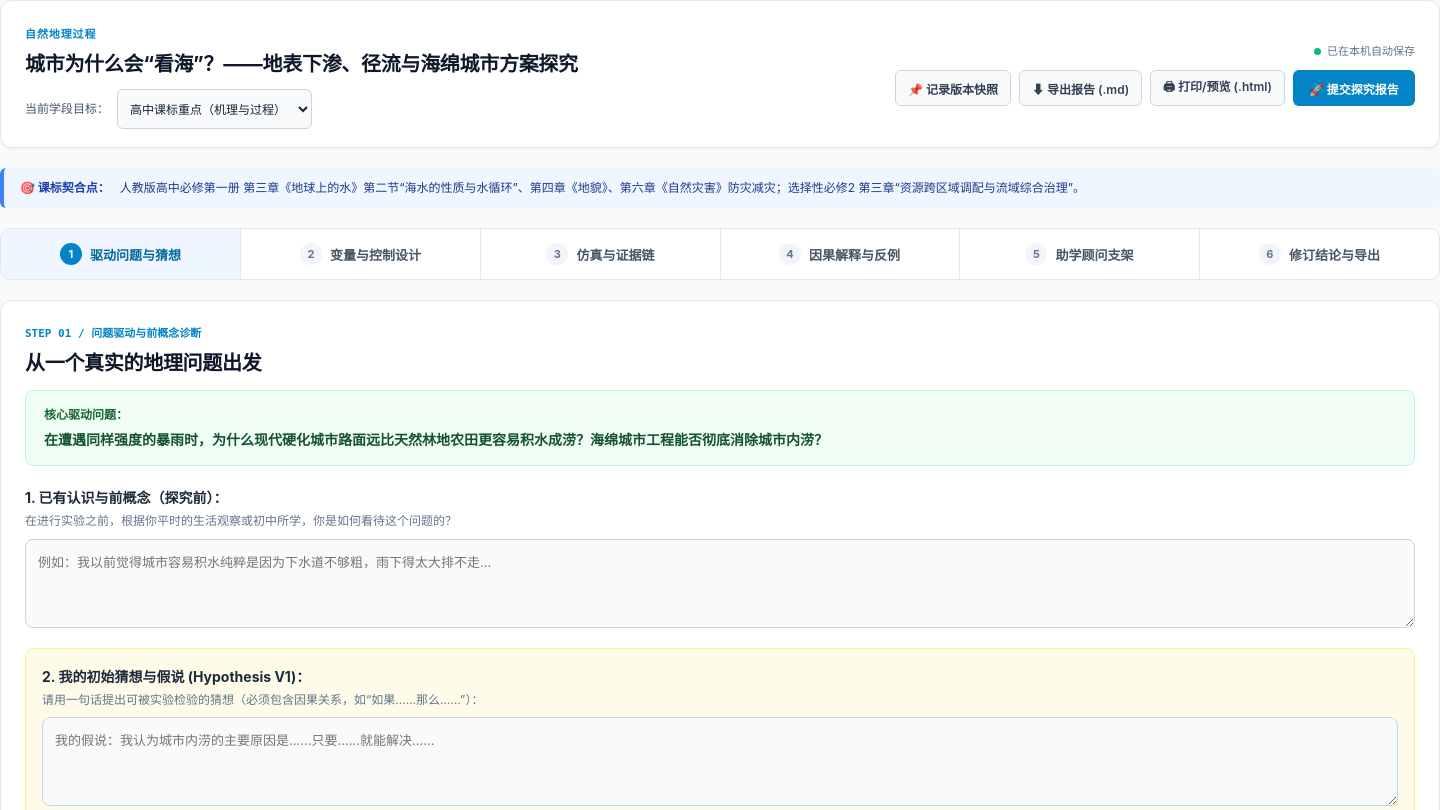
Test: StudentWorkbench Component › allows adding and removing controlled variables in step 2
Go to step 2
Click the button with class "step-item" showing "2 变量与控制设计" at {"x": 361, "y": 254}, box [241, 229, 481, 279]
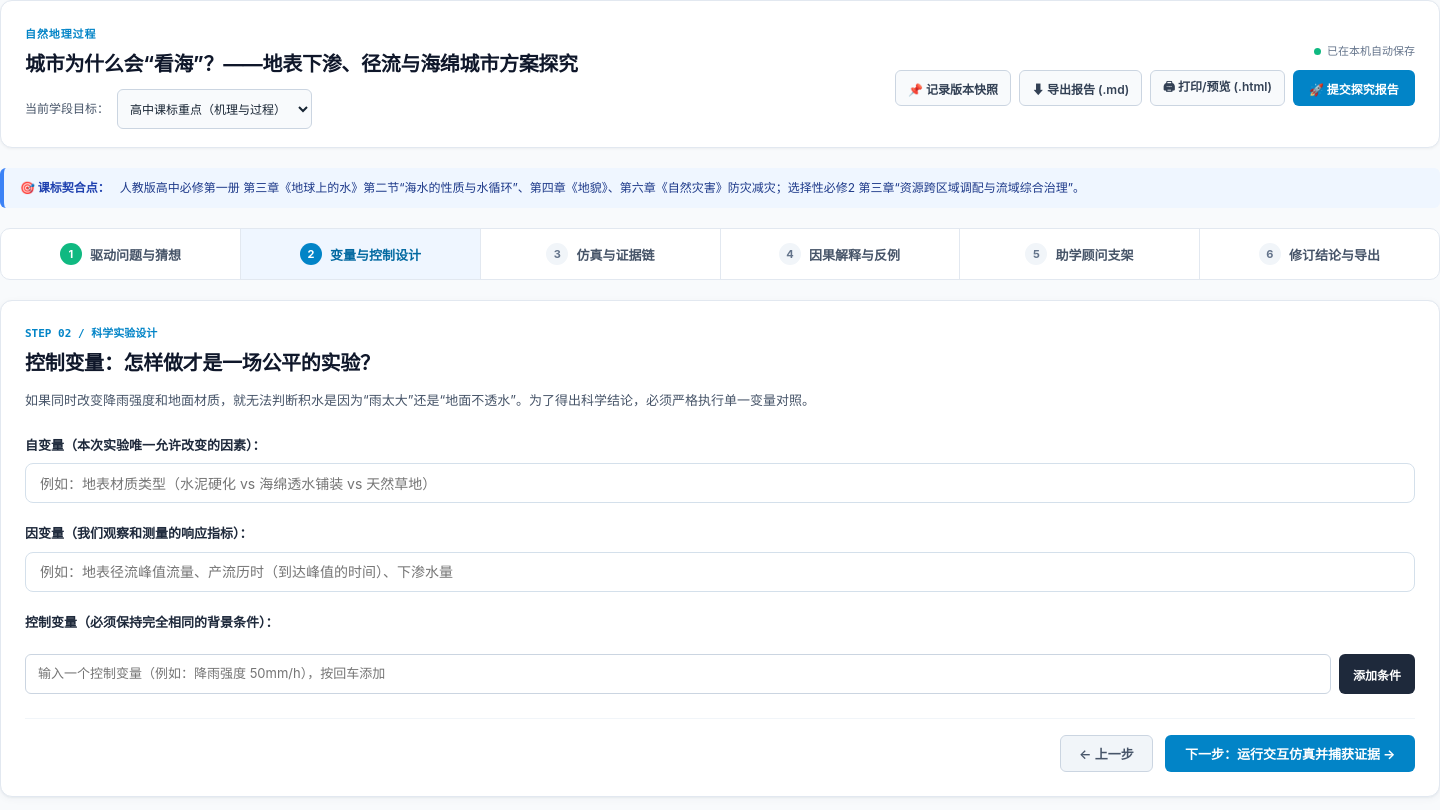
Type "降雨历时60分钟" into the field with placeholder "输入一个控制变量（例如：降雨强度 50mm/h），按回车添加" at {"x": 678, "y": 674}, box [25, 654, 1331, 694]
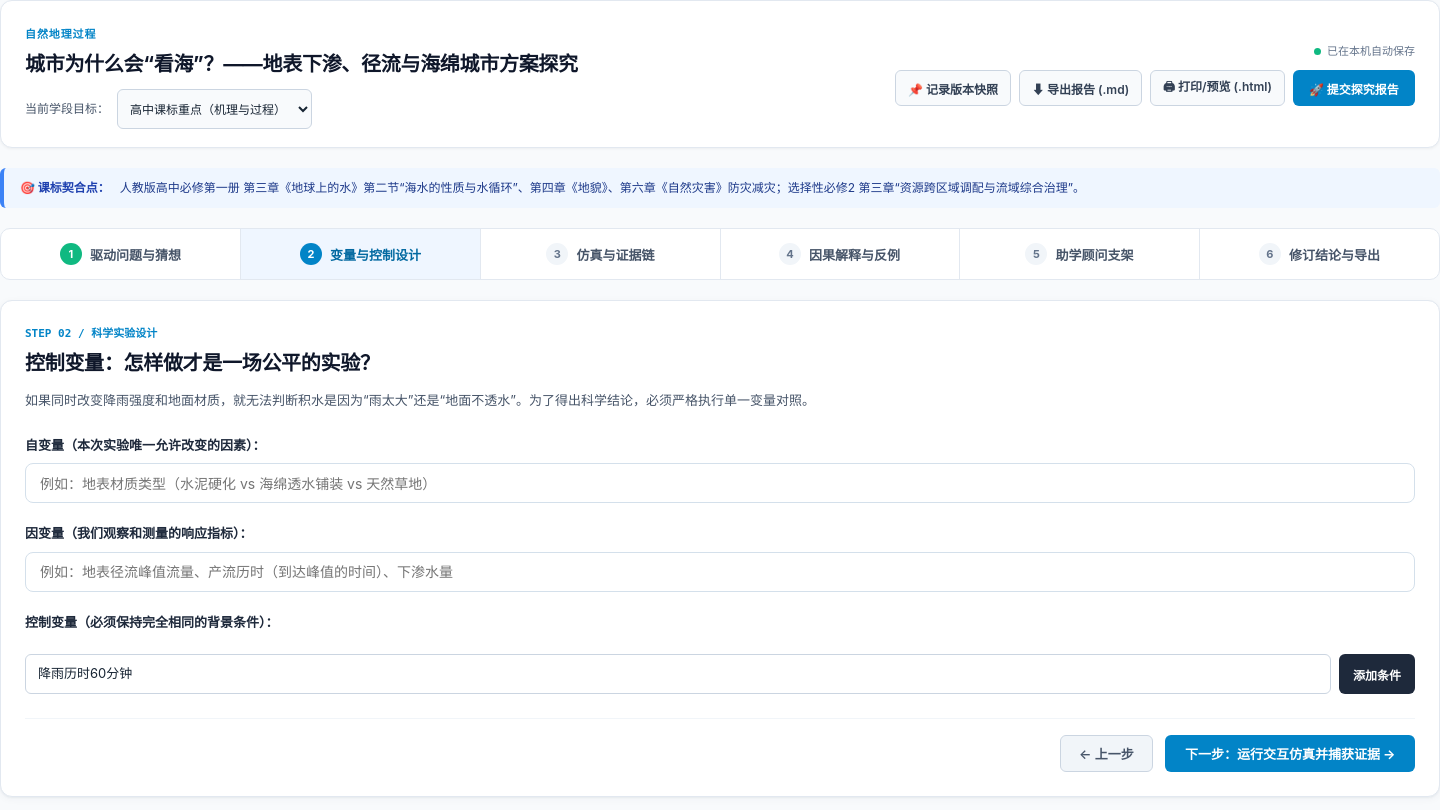
Click the button "添加条件" at {"x": 1377, "y": 674}, box [1339, 654, 1415, 694]
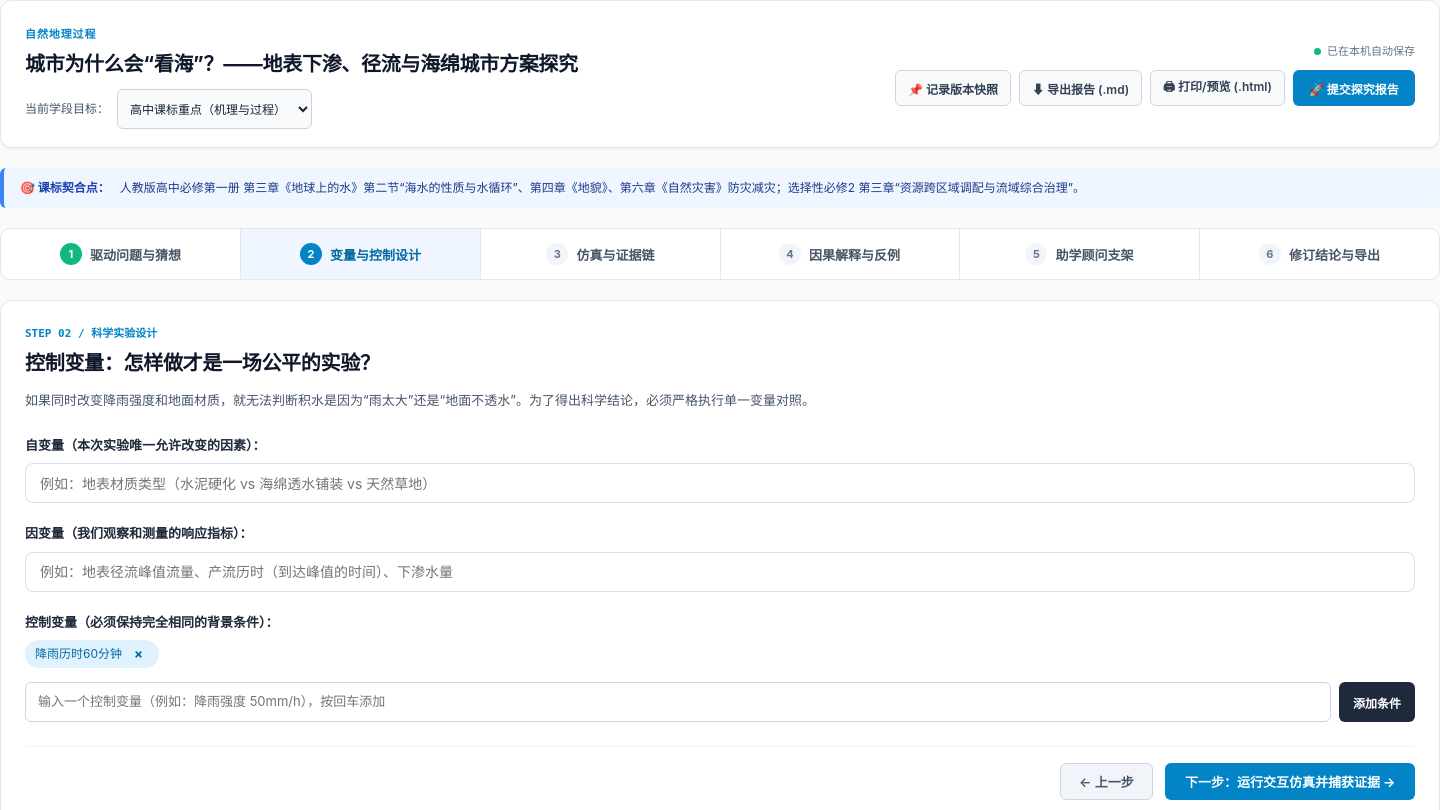
Expected: the text "降雨历时60分钟" is shown, [35, 646, 122, 661]
